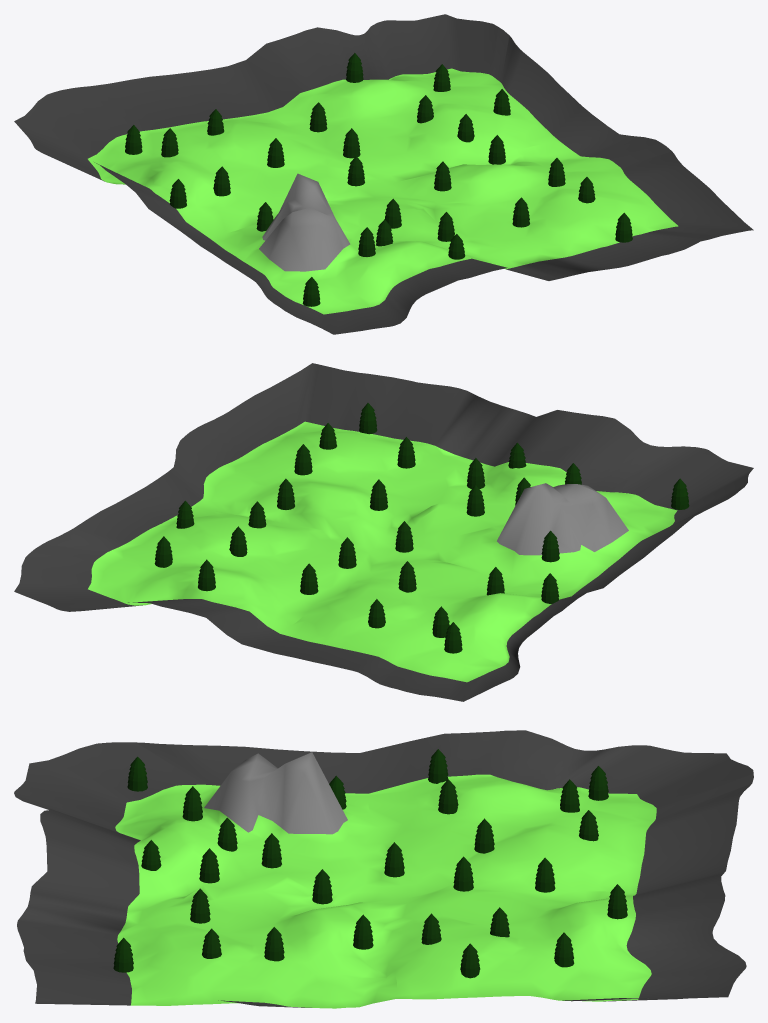
3 renders of one model, top to bottom at view 1: azimuth 30°, elevation 25°; view 2: azimuth 150°, elevation 25°; view 3: azimuth 270°, elevation 25°, orthographic. The views are drawn at different scales.
Visible parts, largest first — view 1: Tree3.028; view 2: Tree3.028; view 3: Tree3.028.
Part boxes in pixels (x1,y1,x2,y2): Tree3.028: (14, 14, 753, 334); Tree3.028: (14, 363, 753, 701); Tree3.028: (14, 730, 753, 1008).
Bounding box in the file's own units: 23.42 × 3.42 × 27.4.
